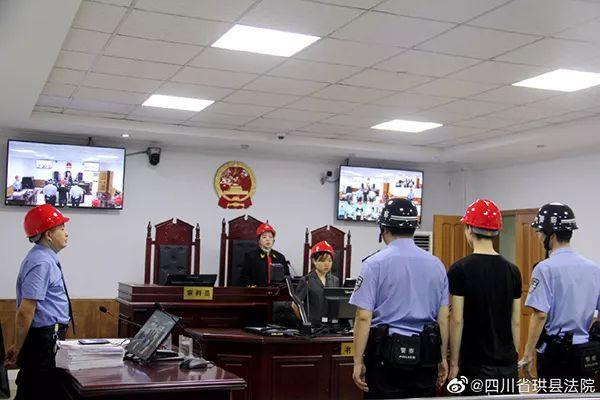helmet: (22, 207, 71, 239), (537, 203, 582, 235), (463, 200, 504, 233), (378, 201, 422, 230), (253, 221, 282, 240), (313, 242, 337, 258)
